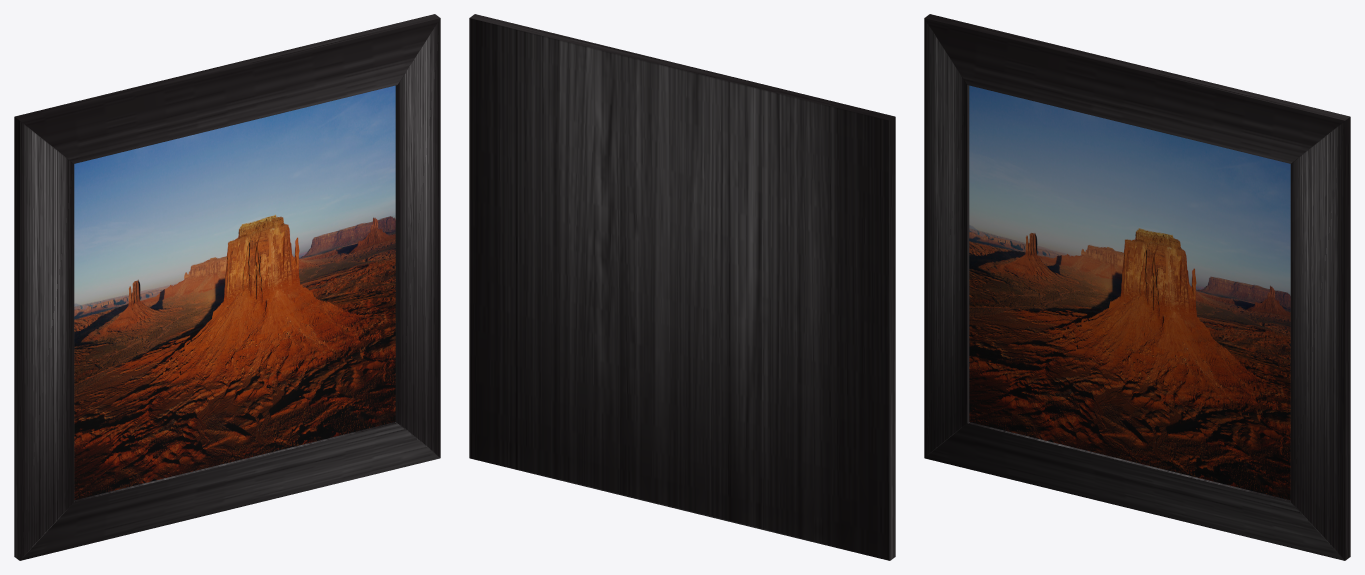
The model's file is painting.FBX.
The picture shows the model from 3 angles, left to right: view 1: azimuth 30°, elevation 25°; view 2: azimuth 150°, elevation 25°; view 3: azimuth 330°, elevation 25°; orthographic projection.
Visible parts, largest first — view 1: Canvas, Frame; view 2: Frame; view 3: Canvas, Frame.
Boxes of the visible parts, bbox=[...] form: Canvas: bbox=[74, 85, 395, 500]; Frame: bbox=[14, 14, 440, 560]; Frame: bbox=[469, 14, 895, 560]; Canvas: bbox=[969, 85, 1290, 500]; Frame: bbox=[924, 14, 1350, 560].
Size of the model in its own units: 51.18 by 51.18 by 2.36.
2 materials, 2 textured.
